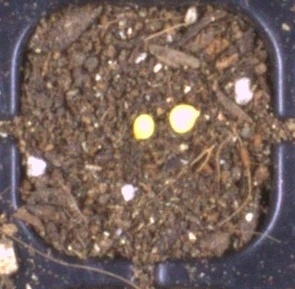chilli seed: (167, 103, 200, 134), (132, 113, 155, 140)
